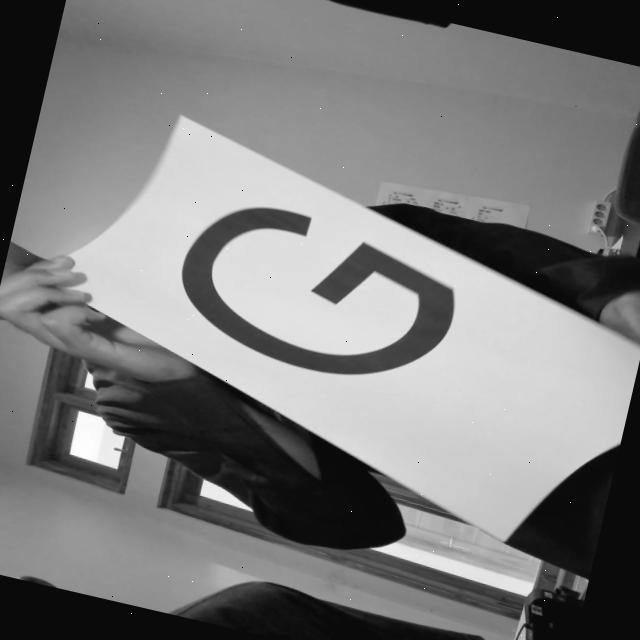g: (146, 175, 504, 414)
